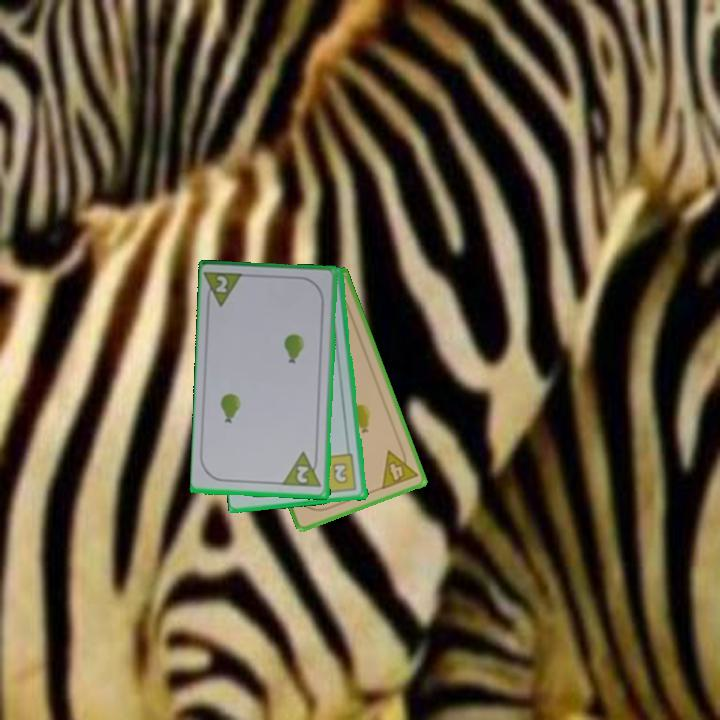2b: (318, 451, 360, 496)
2p: (203, 268, 248, 311), (281, 449, 325, 490)
4p: (378, 442, 420, 492)
